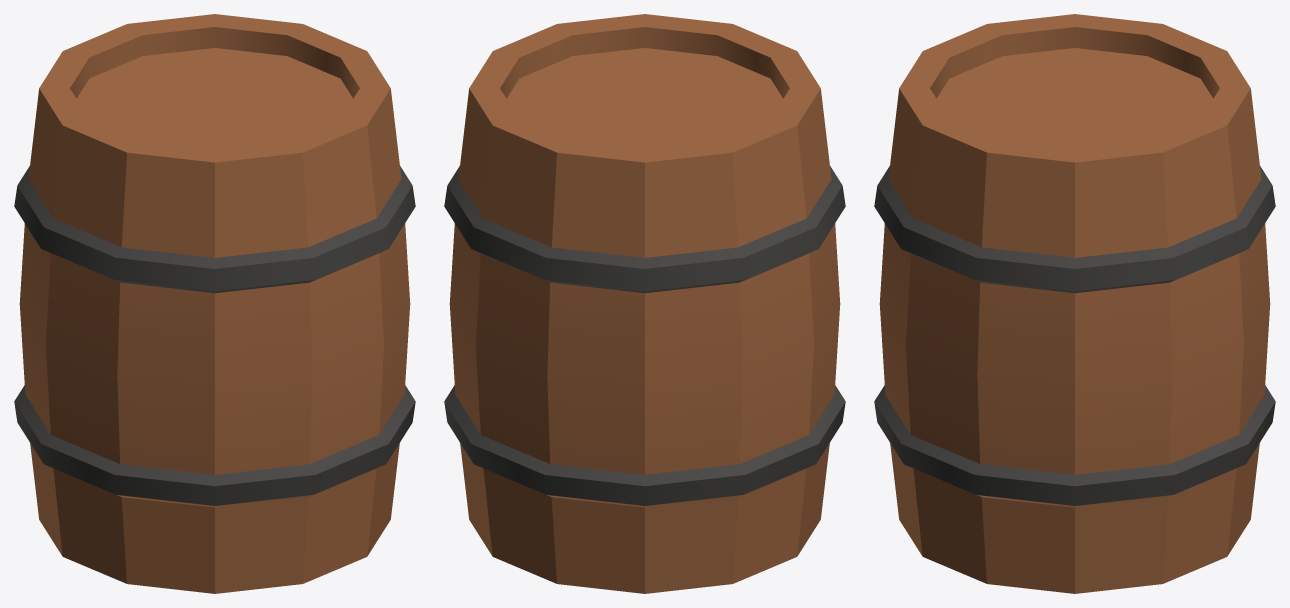
File: Barrel.fbx
3 views of the same model, side by side, from view 1: azimuth 30°, elevation 25°; view 2: azimuth 150°, elevation 25°; view 3: azimuth 270°, elevation 25° (orthographic).
Parts seen in each view (by area): view 1: Barrel; view 2: Barrel; view 3: Barrel.
Boxes of the visible parts, x1,y1,x2,y2 form: Barrel: [14, 14, 415, 593]; Barrel: [444, 14, 845, 593]; Barrel: [874, 14, 1275, 593].
Bounding box in the file's own units: 60.95 × 72.26 × 60.95.
